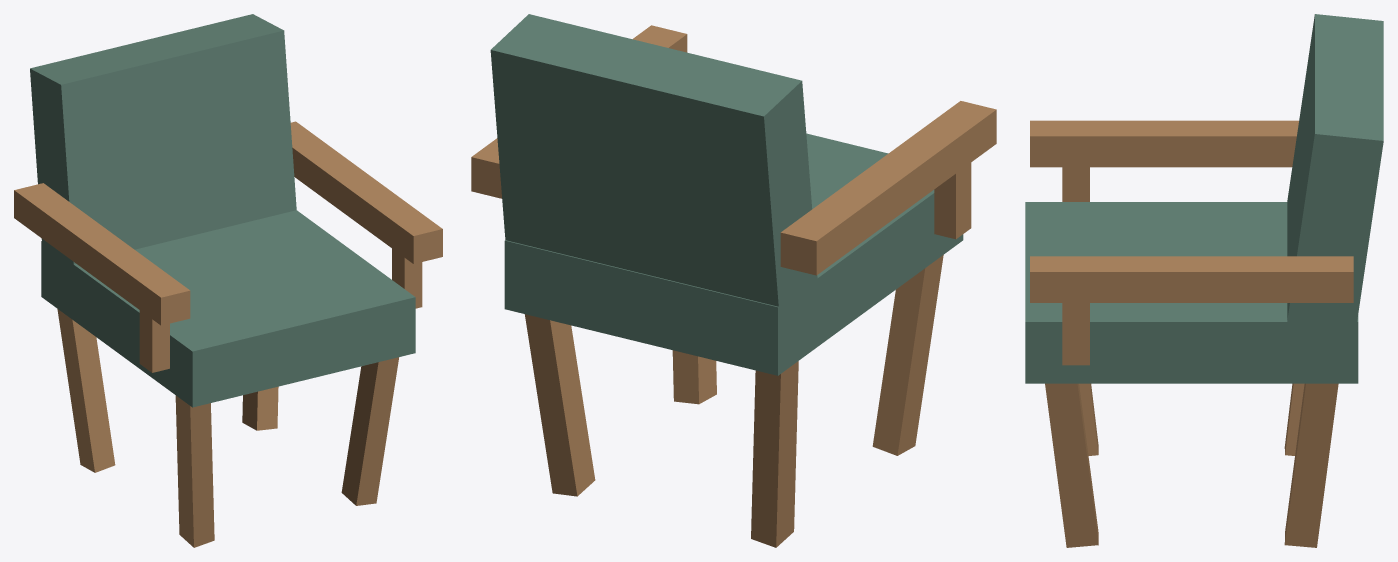
The model's file is chair.glb.
3 renders of one model, left to right at view 1: azimuth 30°, elevation 25°; view 2: azimuth 150°, elevation 25°; view 3: azimuth 270°, elevation 25°, orthographic. The views are drawn at different scales.
Parts seen in each view (by area): view 1: 靠背, 坐垫, 扶手, 扶手.001, 木质椅腿.002, 木质椅腿.001, 木质椅腿, 扶手支撑, 木质椅腿.003, 扶手支撑.001; view 2: 靠背, 坐垫, 扶手, 木质椅腿.003, 木质椅腿, 木质椅腿.001, 扶手.001, 扶手支撑, 木质椅腿.002; view 3: 坐垫, 靠背, 扶手.001, 扶手, 木质椅腿.002, 木质椅腿.003, 扶手支撑.001, 扶手支撑, 木质椅腿, 木质椅腿.001.
Boxes of the visible parts, x1,y1,x2,y2 form: 靠背: (30,14,296,266); 坐垫: (41,210,415,407); 扶手: (14,183,190,325); 扶手.001: (290,121,442,263); 木质椅腿.002: (341,357,398,505); 木质椅腿.001: (57,309,115,472); 木质椅腿: (175,395,214,547); 扶手支撑: (139,310,169,372); 木质椅腿.003: (242,386,278,430); 扶手支撑.001: (392,248,422,308); 靠背: (490,14,817,316); 坐垫: (504,133,963,375); 扶手: (780,101,996,275); 木质椅腿.003: (524,314,595,496); 木质椅腿: (872,255,943,455); 木质椅腿.001: (751,361,798,547); 扶手.001: (471,25,687,198); 扶手支撑: (934,162,971,239); 木质椅腿.002: (672,350,716,404); 坐垫: (1025,202,1358,383); 靠背: (1287,14,1383,332); 扶手.001: (1030,256,1353,302); 扶手: (1030,120,1298,167); 木质椅腿.002: (1045,383,1098,547); 木质椅腿.003: (1284,383,1338,547); 扶手支撑.001: (1062,303,1089,365); 扶手支撑: (1062,167,1089,201); 木质椅腿: (1079,383,1098,455); 木质椅腿.001: (1284,383,1304,455).
Size of the model in its own units: 0.65 by 0.85 by 0.65.
